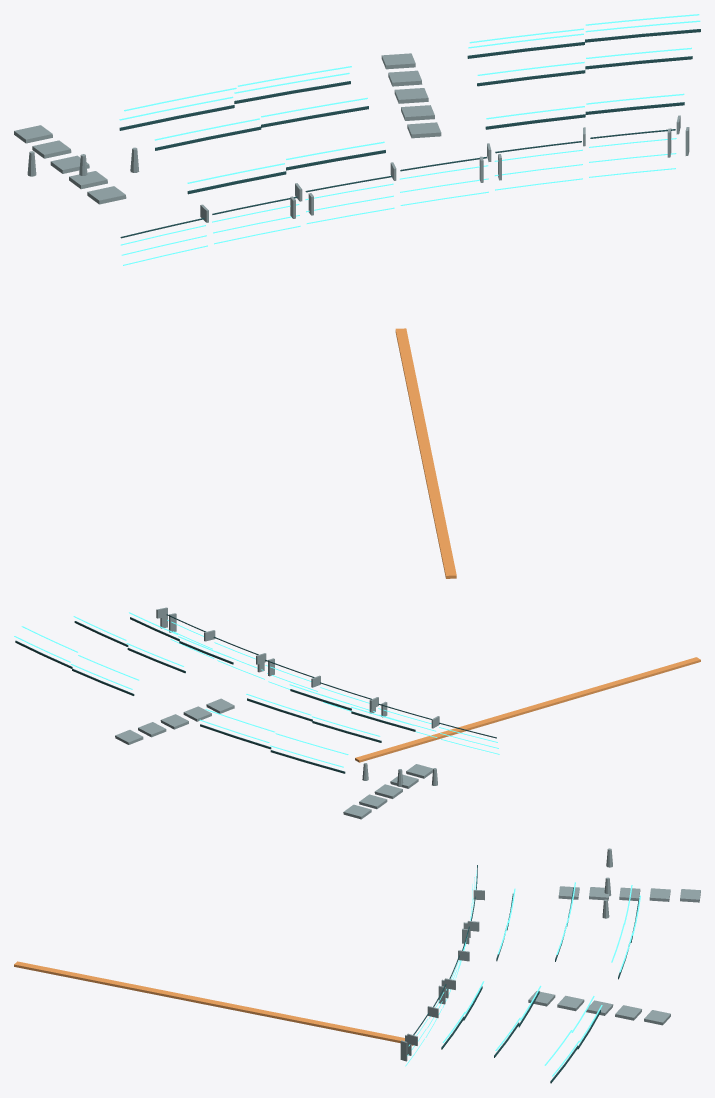
Rendered from Weather_Lung_Sector_02_Dressing.glb.
3 renders of one model, top to bottom at view 1: azimuth 30°, elevation 25°; view 2: azimuth 150°, elevation 25°; view 3: azimuth 270°, elevation 25°, orthographic. The views are drawn at different scales.
Parts seen in each view (by area): view 1: Weather_Lung_Sector_02_Dressing; view 2: Weather_Lung_Sector_02_Dressing; view 3: Weather_Lung_Sector_02_Dressing.
Boxes of the visible parts, x1,y1,x2,y2 form: Weather_Lung_Sector_02_Dressing: (14, 14, 700, 578); Weather_Lung_Sector_02_Dressing: (14, 607, 700, 819); Weather_Lung_Sector_02_Dressing: (14, 848, 700, 1083).
Bounding box in the file's own units: 6072 × 1462 × 7580.
